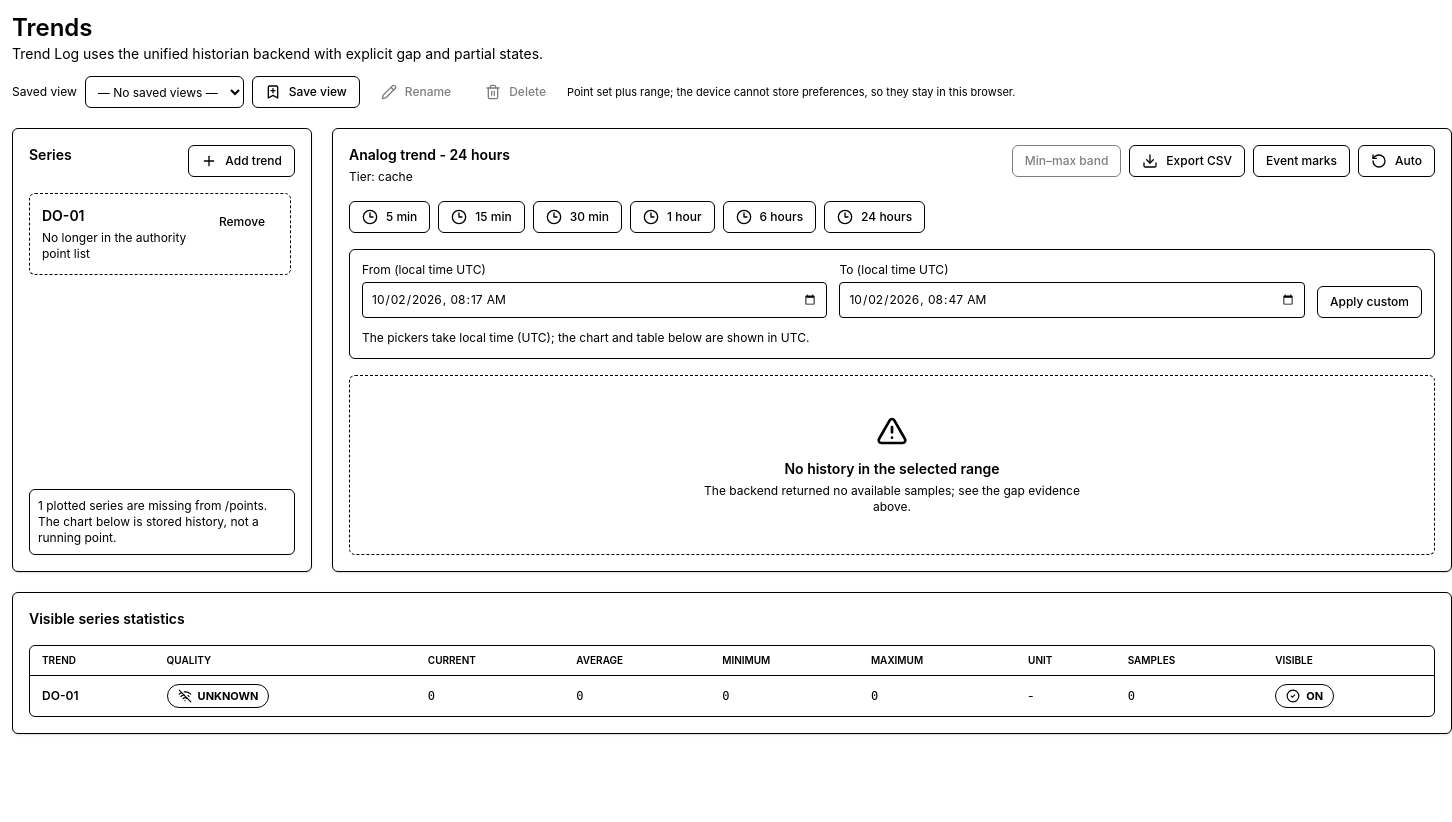
Test: TrendsPage — series còn trong prefs nhưng không còn trong /points › vẫn gỡ được id mồ côi để thoát khỏi trạng thái kẹt
Click the button "Remove": (242,222) [206,206,278,238]
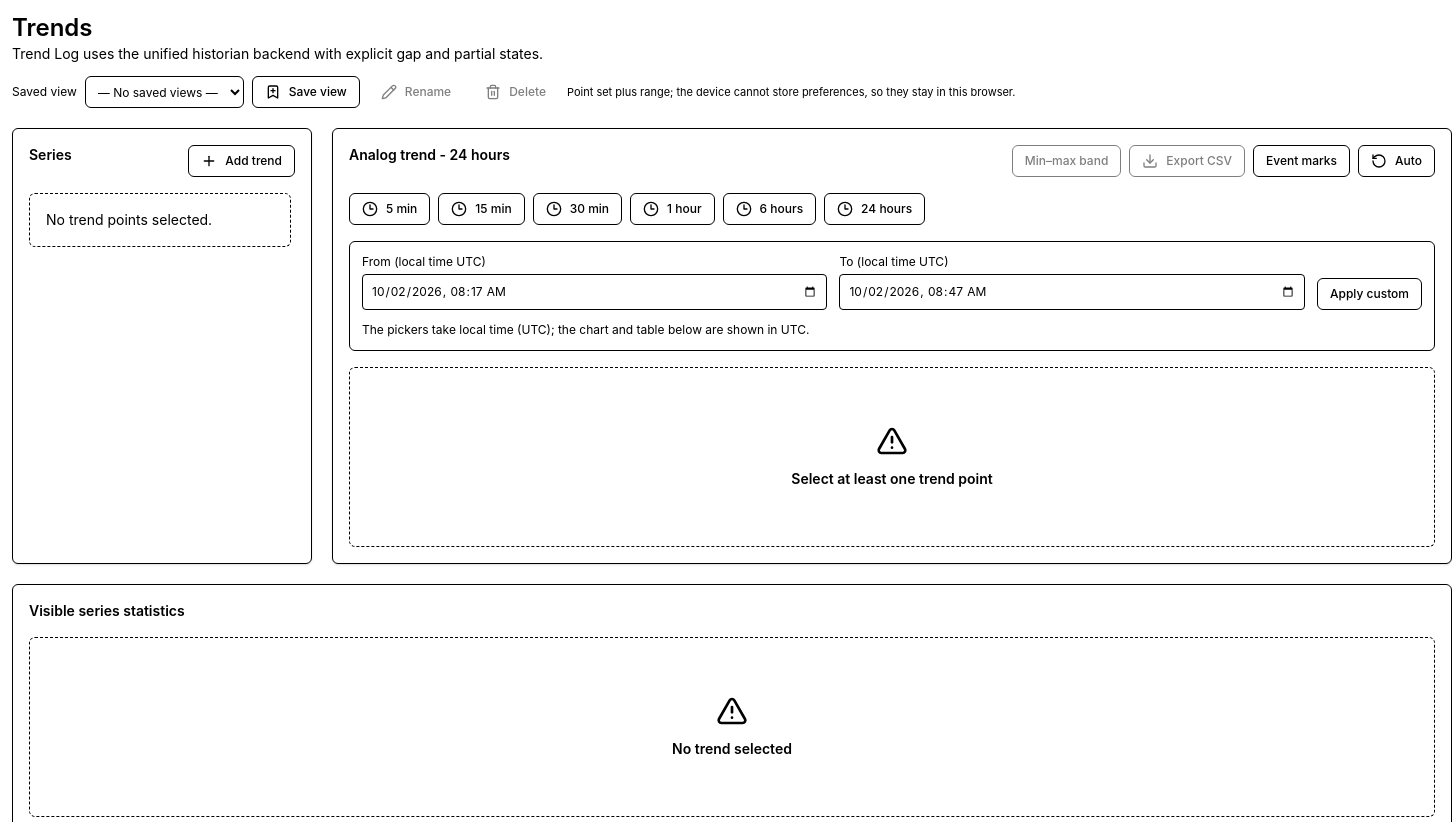
Now the text "No trend points selected." is shown, box [29,193,291,247]
Now the text "No longer in the authority point list" is gone
